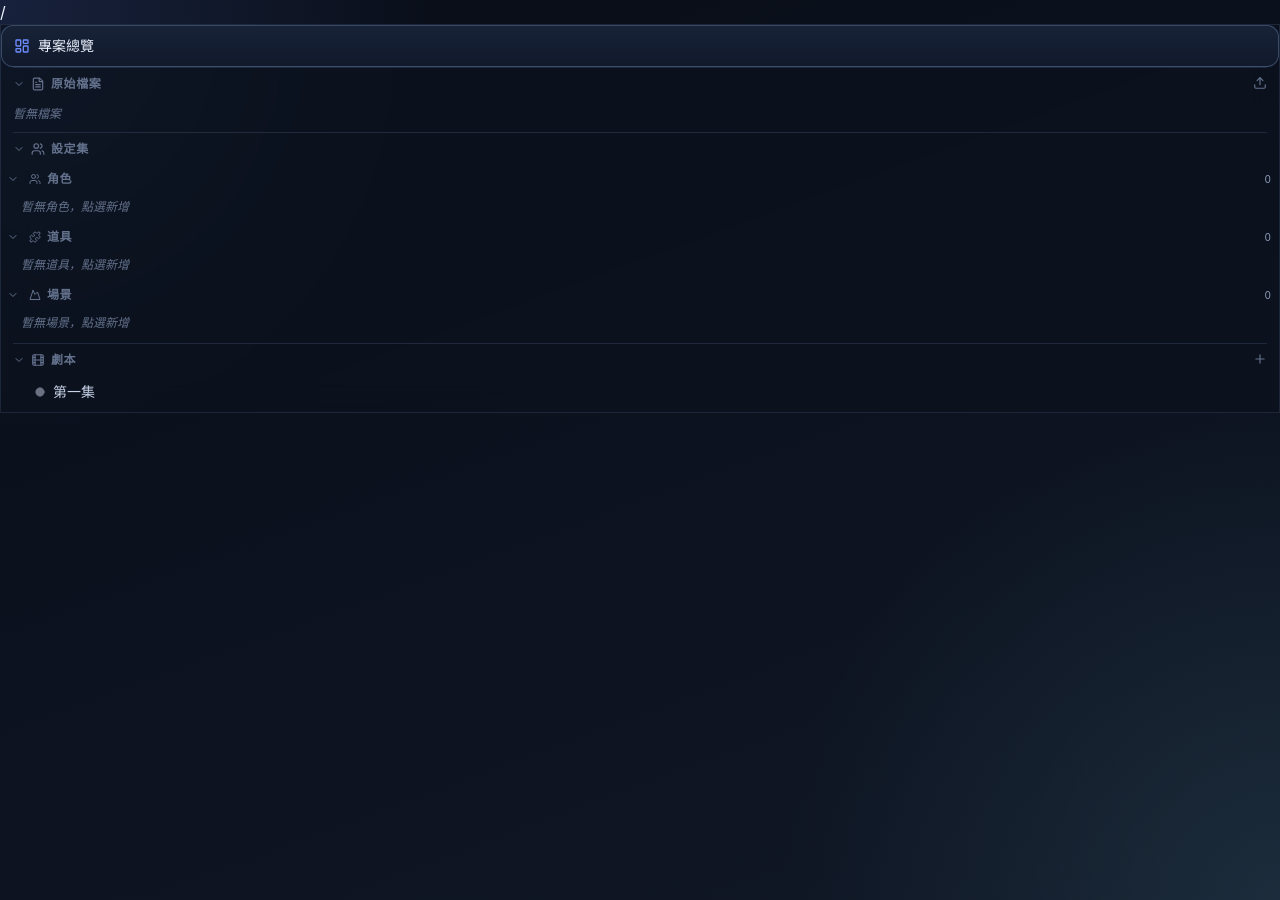
Scenario: AssetSidebar › creates the next episode from the scripts section action
This screenshot has width=1280, height=900.
Click the button titled "新增劇本" at [1260, 359], box 1249,348 -> 1271,370
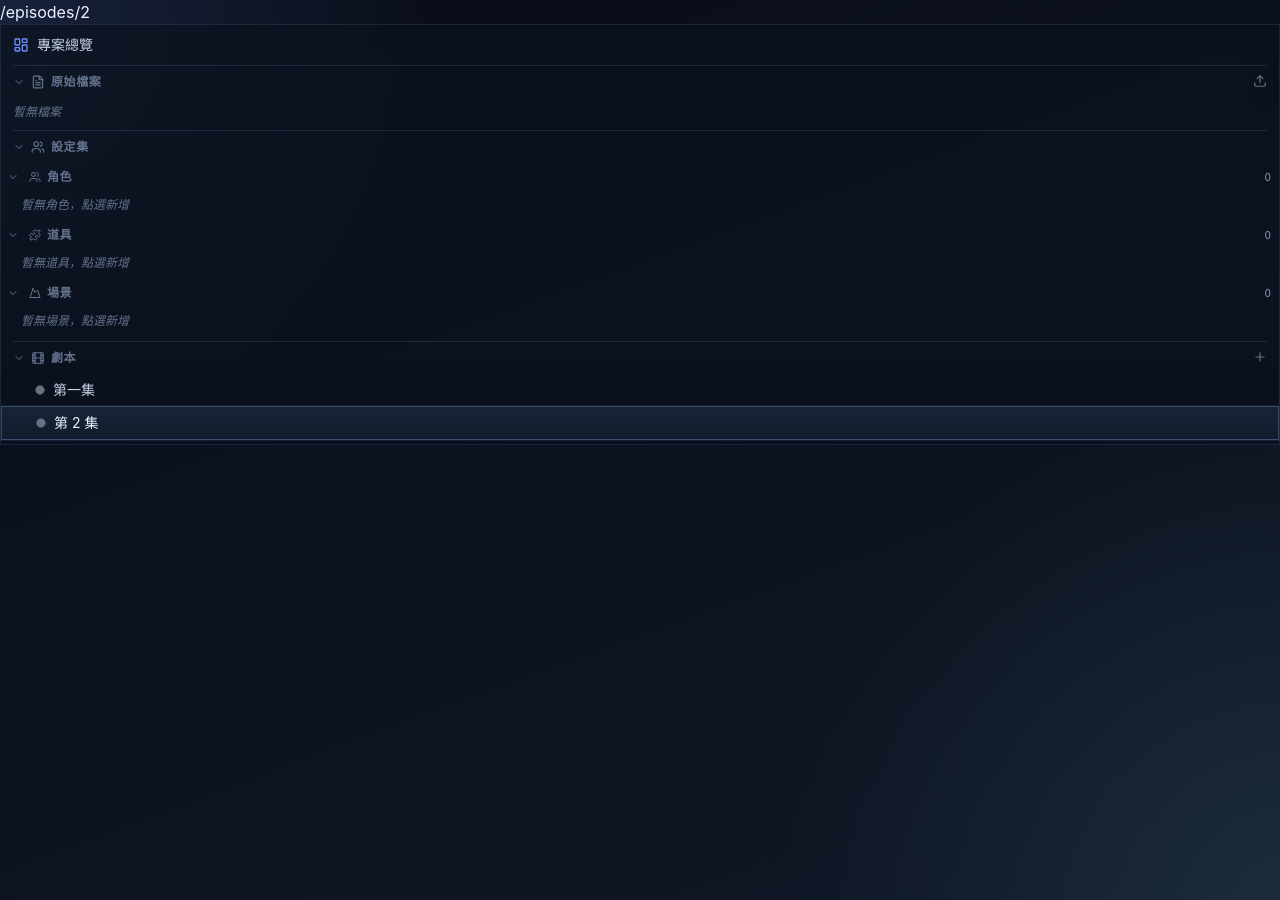
Now the text with test id "location" reads "/episodes/2", box 0,2 -> 90,22
